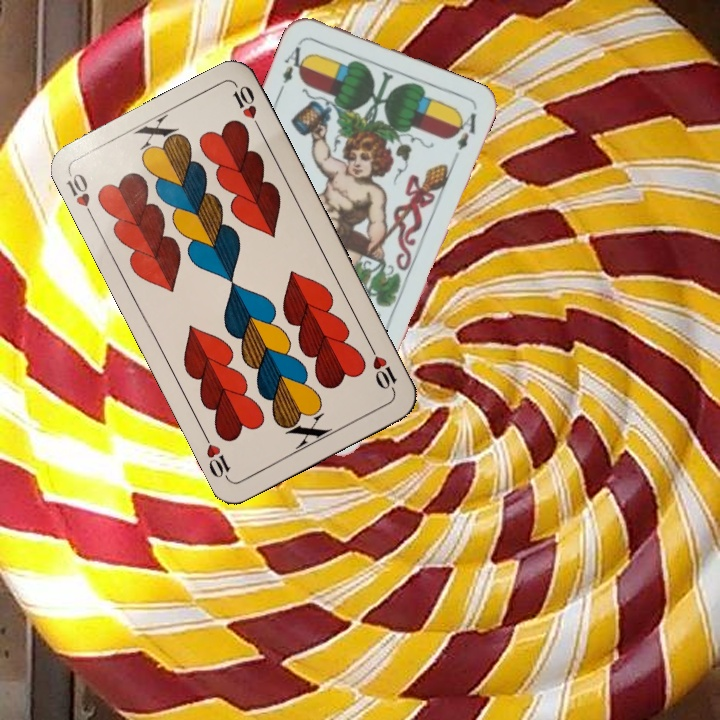EA: (278, 36, 311, 86)
H10: (62, 168, 98, 223), (365, 340, 400, 395)
